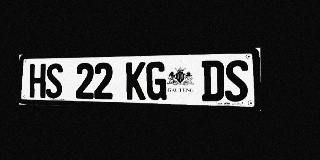2: (94, 62, 113, 99), (76, 63, 94, 99)
D: (202, 60, 224, 101)
G: (146, 61, 166, 100)
H: (29, 64, 46, 98)
K: (126, 62, 146, 100)
S: (225, 60, 248, 102), (46, 63, 63, 98)
